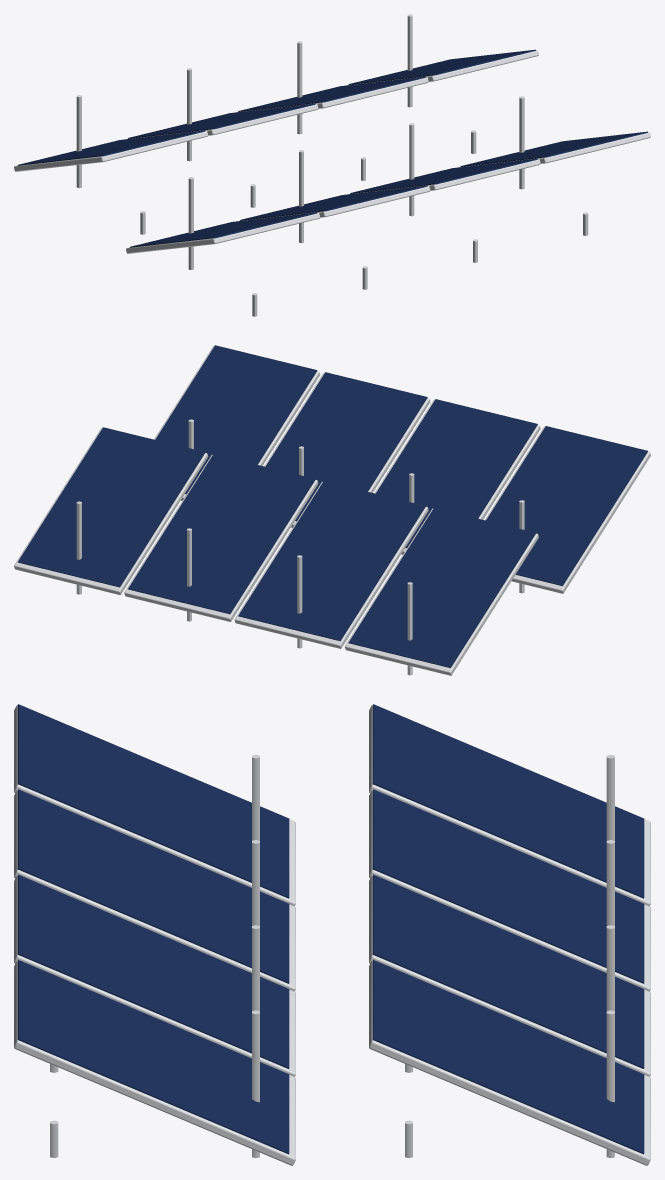
The model's file is solar_array.fbx.
The picture shows the model from 3 angles, top to bottom: view 1: azimuth 30°, elevation 25°; view 2: azimuth 150°, elevation 25°; view 3: azimuth 270°, elevation 25°; orthographic projection. The views are drawn at different scales.
Parts seen in each view (by area): view 1: solar_array; view 2: solar_array; view 3: solar_array.
Boxes of the visible parts, x1,y1,x2,y2 form: solar_array: (14, 14, 650, 316); solar_array: (14, 345, 650, 675); solar_array: (14, 704, 650, 1165).
Size of the model in its own units: 4.28 by 0.9267 by 3.41.
